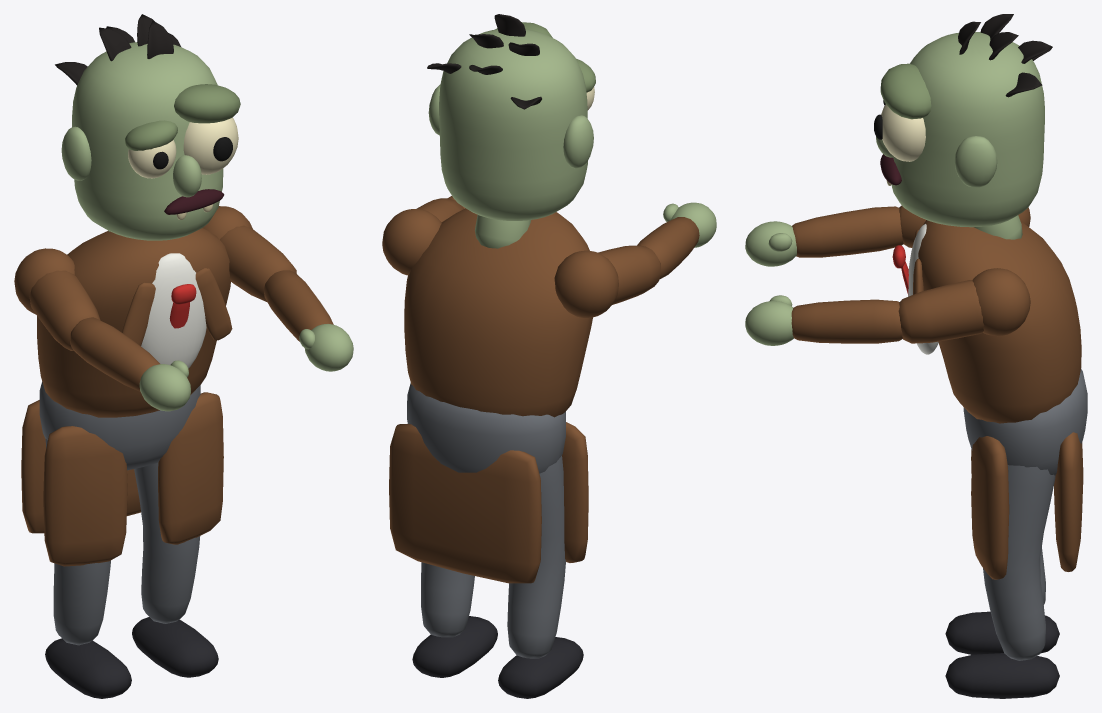
File: browncoat.glb
3 views of the same model, side by side, from view 1: azimuth 30°, elevation 25°; view 2: azimuth 150°, elevation 25°; view 3: azimuth 270°, elevation 25° (orthographic).
Parts seen in each view (by area): view 1: Head, Coat, Torso, ArmR, LegL, ArmL, Shirt, LegR, Hips, Hair; view 2: Torso, Head, Coat, LegR, ArmR, Hips, LegL, ArmL, Hair; view 3: Head, Torso, ArmL, LegL, Coat, ArmR, Hips, LegR, Hair, Shirt.
Boxes of the visible parts, x1,y1,x2,y2 form: Head: (61, 42, 240, 240); Coat: (21, 392, 223, 566); Torso: (37, 228, 230, 417); ArmR: (14, 248, 190, 411); LegL: (132, 462, 218, 677); ArmL: (203, 206, 353, 371); Shirt: (122, 253, 232, 368); LegR: (45, 438, 131, 698); Hips: (39, 381, 200, 470); Hair: (55, 14, 180, 85); Torso: (404, 208, 592, 417); Head: (428, 22, 595, 220); Coat: (389, 422, 588, 583); LegR: (498, 456, 583, 698); ArmR: (554, 202, 716, 317); Hips: (407, 383, 565, 473); LegL: (412, 562, 497, 677); ArmL: (382, 196, 465, 275); Hair: (427, 14, 541, 109); Head: (874, 32, 1044, 227); Torso: (918, 215, 1081, 423); ArmL: (745, 268, 1030, 345); LegL: (945, 465, 1059, 698); Coat: (971, 432, 1083, 579); ArmR: (745, 205, 1030, 266); Hips: (963, 369, 1087, 476); LegR: (945, 547, 1059, 654); Hair: (958, 14, 1052, 97); Shirt: (892, 224, 938, 354).
Bounding box in the file's own units: 0.7687 × 2.04 × 0.963.
